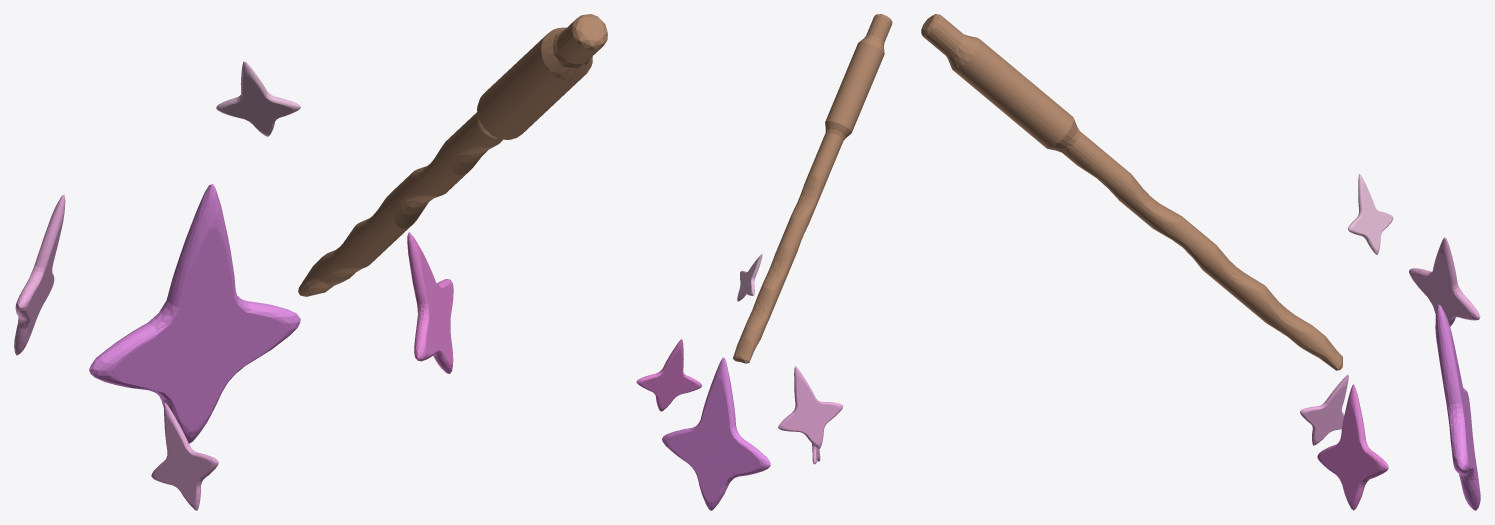
The model's file is wand.gltf.
3 views of the same model, side by side, from view 1: azimuth 30°, elevation 25°; view 2: azimuth 150°, elevation 25°; view 3: azimuth 270°, elevation 25° (orthographic). The views are drawn at different scales.
Visible parts, largest first — view 1: 194134_23_02_07_15_55_15_1, 194134_23_02_07_15_55_15_0, 194134_23_02_07_15_55_15_3, 194134_23_02_07_15_55_15_2, 194134_23_02_07_15_55_15_5, 194134_23_02_07_15_55_15_4; view 2: 194134_23_02_07_15_55_15_0, 194134_23_02_07_15_55_15_1, 194134_23_02_07_15_55_15_2, 194134_23_02_07_15_55_15_3, 194134_23_02_07_15_55_15_4; view 3: 194134_23_02_07_15_55_15_0, 194134_23_02_07_15_55_15_1, 194134_23_02_07_15_55_15_3, 194134_23_02_07_15_55_15_2, 194134_23_02_07_15_55_15_4, 194134_23_02_07_15_55_15_5.
Part boxes in pixels (x1,y1,x2,y2): 194134_23_02_07_15_55_15_1: [89, 184, 300, 443]; 194134_23_02_07_15_55_15_0: [298, 14, 607, 296]; 194134_23_02_07_15_55_15_3: [407, 232, 453, 373]; 194134_23_02_07_15_55_15_2: [14, 194, 65, 355]; 194134_23_02_07_15_55_15_5: [151, 403, 218, 510]; 194134_23_02_07_15_55_15_4: [216, 61, 300, 136]; 194134_23_02_07_15_55_15_0: [733, 14, 892, 363]; 194134_23_02_07_15_55_15_1: [662, 357, 770, 510]; 194134_23_02_07_15_55_15_2: [778, 366, 842, 448]; 194134_23_02_07_15_55_15_3: [636, 339, 702, 411]; 194134_23_02_07_15_55_15_4: [737, 254, 762, 301]; 194134_23_02_07_15_55_15_0: [921, 14, 1342, 370]; 194134_23_02_07_15_55_15_1: [1435, 304, 1480, 510]; 194134_23_02_07_15_55_15_3: [1317, 384, 1388, 510]; 194134_23_02_07_15_55_15_2: [1409, 237, 1480, 326]; 194134_23_02_07_15_55_15_4: [1348, 174, 1393, 254]; 194134_23_02_07_15_55_15_5: [1300, 374, 1348, 445].
Size of the model in its own units: 17.26 by 27.22 by 27.2.
